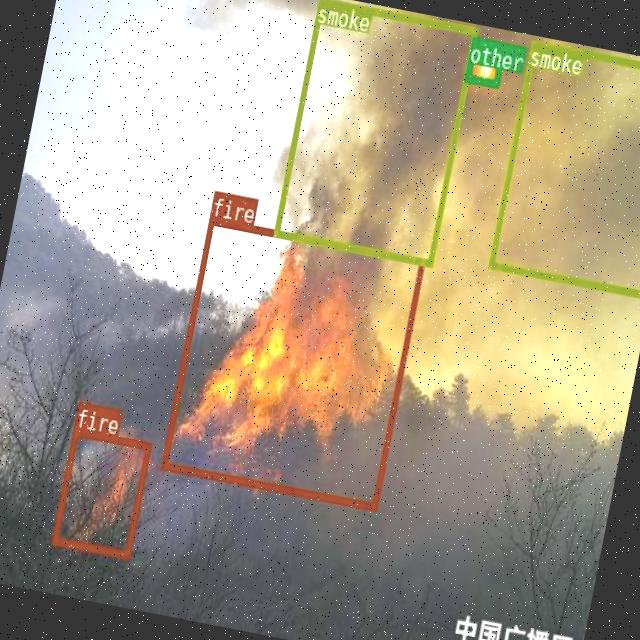fire: (160, 215, 425, 510), (50, 427, 152, 558)
smoke: (272, 0, 477, 266), (487, 40, 640, 297)
